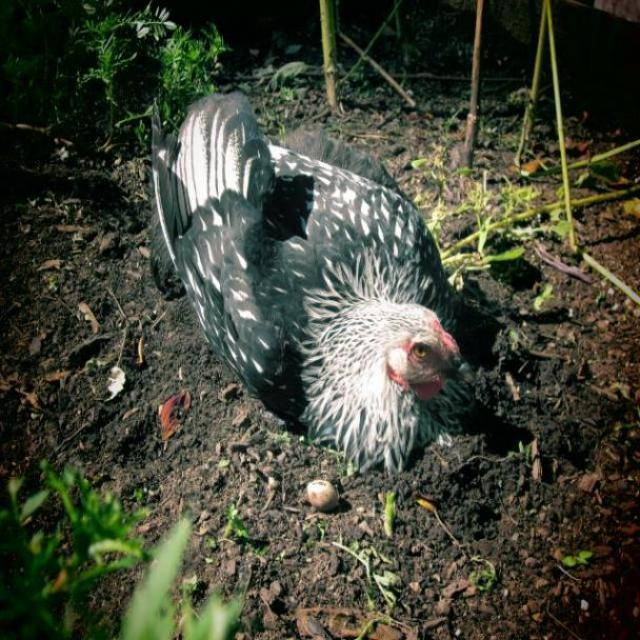Chicken: (152, 102, 459, 460)
